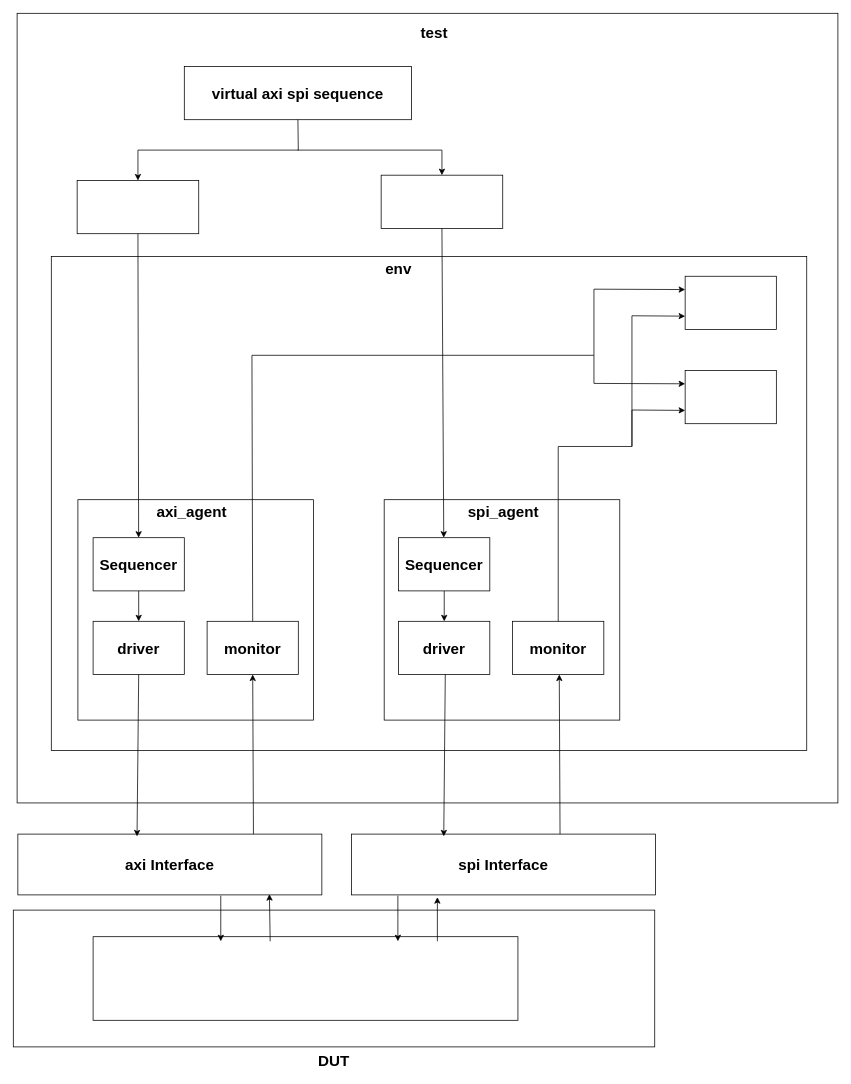
Some shapes in this 851 by 1084 pixel diagram are drawn without their labels. The shapes that lost their labels are listed below. From the top down, each one's centre as x and y in pixels, then its label:
At [137,207]: "axi_sequence".
At [441,201]: "spi_sequence".
At [730,302]: "scoreboard".
At [730,397]: "coverage".
At [305,978]: "AXI - SPI Peripheral".
